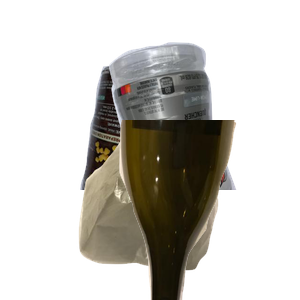glass: (117, 120, 300, 300)
metal: (78, 63, 266, 243)
plastic: (106, 40, 300, 220)
trash: (76, 124, 287, 300)
